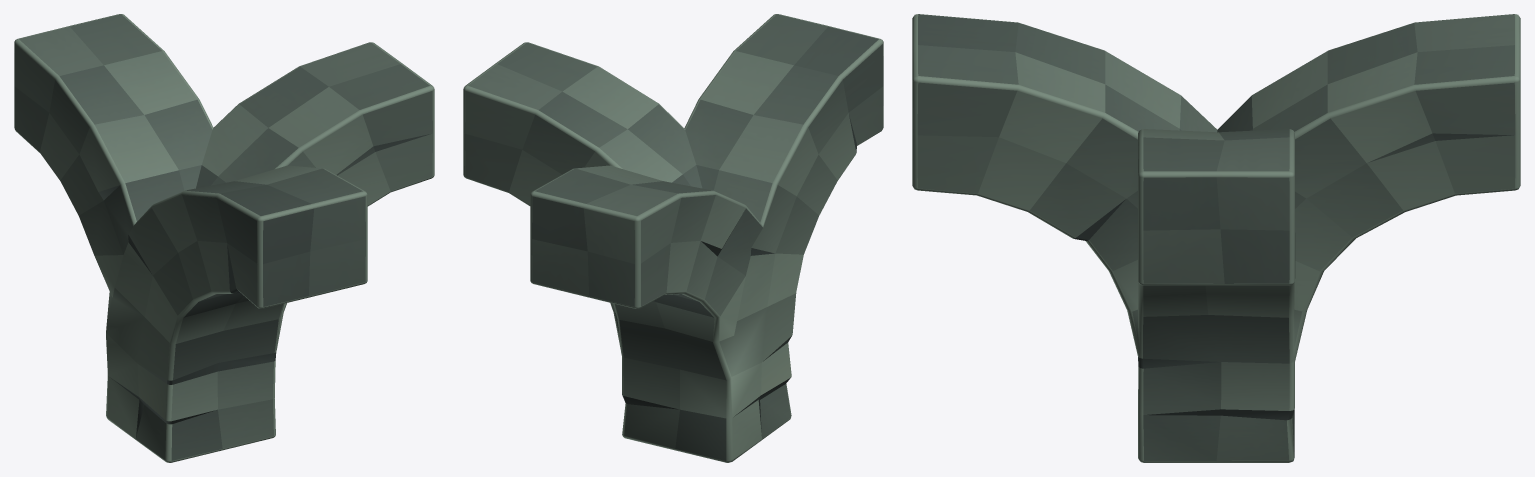
Rendered from stone_arch1.fbx.
The picture shows the model from 3 angles, left to right: view 1: azimuth 30°, elevation 25°; view 2: azimuth 150°, elevation 25°; view 3: azimuth 270°, elevation 25°; orthographic projection. The views are drawn at different scales.
Visible parts, largest first — view 1: stone_arch1; view 2: stone_arch1; view 3: stone_arch1.
Part boxes in pixels (x1,y1,x2,y2): stone_arch1: (14, 14, 434, 462); stone_arch1: (463, 14, 883, 462); stone_arch1: (912, 14, 1520, 462).
Bounding box in the file's own units: 256 × 283 × 404.
Materials: 1 (1 with a texture image).
